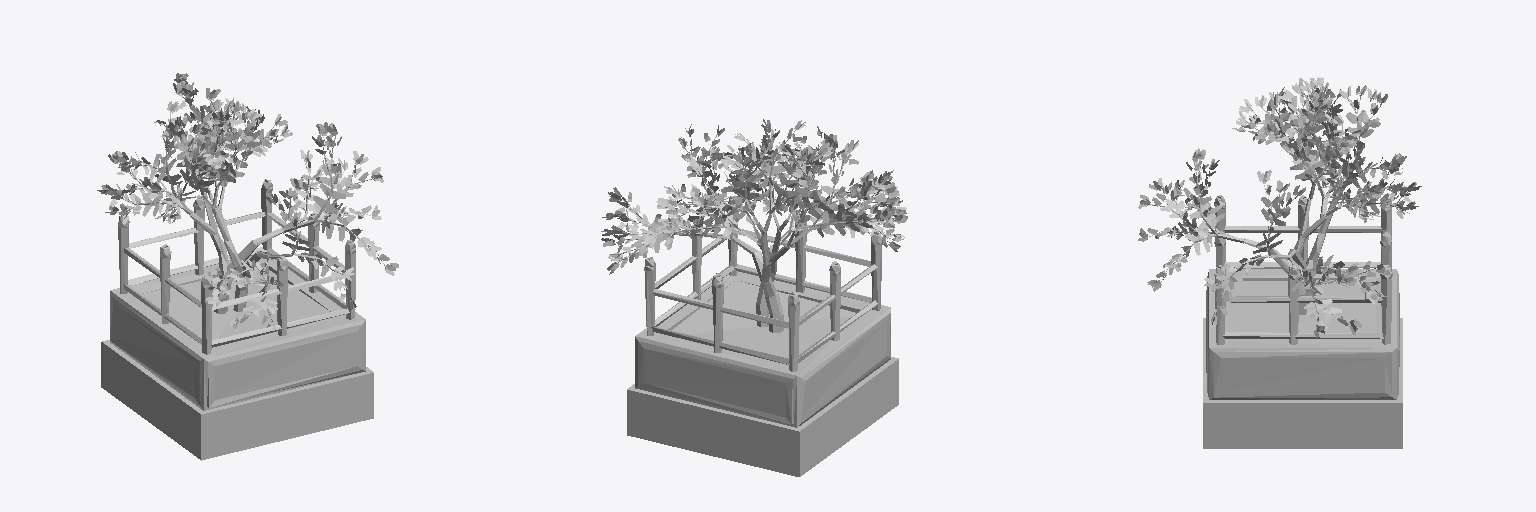
File: decimatedplant0.3.obj
3 views of the same model, side by side, from view 1: azimuth 30°, elevation 25°; view 2: azimuth 150°, elevation 25°; view 3: azimuth 270°, elevation 25° (orthographic).
Parts seen in each view (by area): view 1: objPlant.006; view 2: objPlant.006; view 3: objPlant.006.
Boxes of the visible parts, box(x1,y1,x2,y2) form: objPlant.006: box(97, 73, 398, 460); objPlant.006: box(601, 119, 907, 476); objPlant.006: box(1138, 77, 1421, 448).
Bounding box in the file's own units: 0.5649 × 0.5844 × 0.4797.